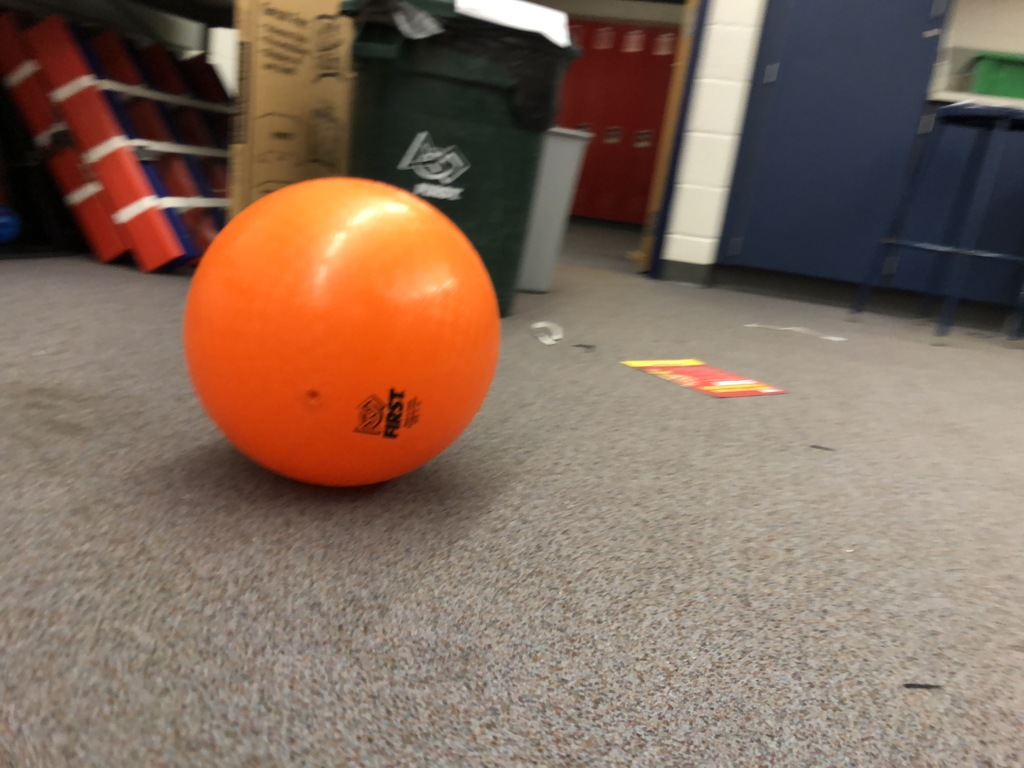cargo: (172, 160, 515, 504)
